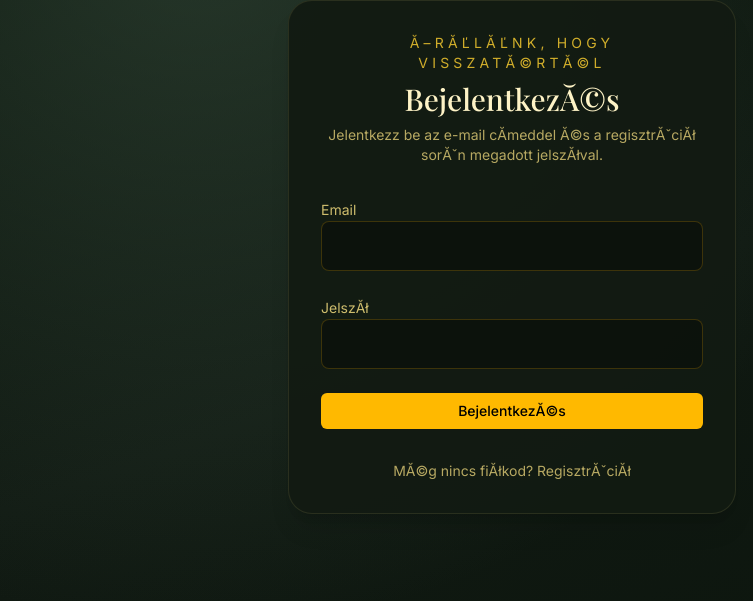
Test: LoginPage Component › displays error message when login fails
In the field with id "email": (512,246) [321,221,703,271], type "test@example.com"
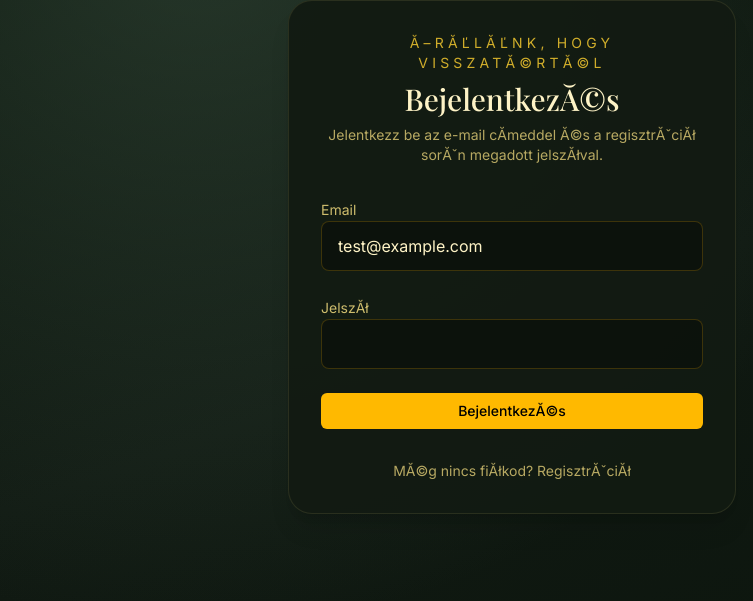
In the password field labelled "JelszĂł": (512,344) [321,319,703,369], type "wrong"
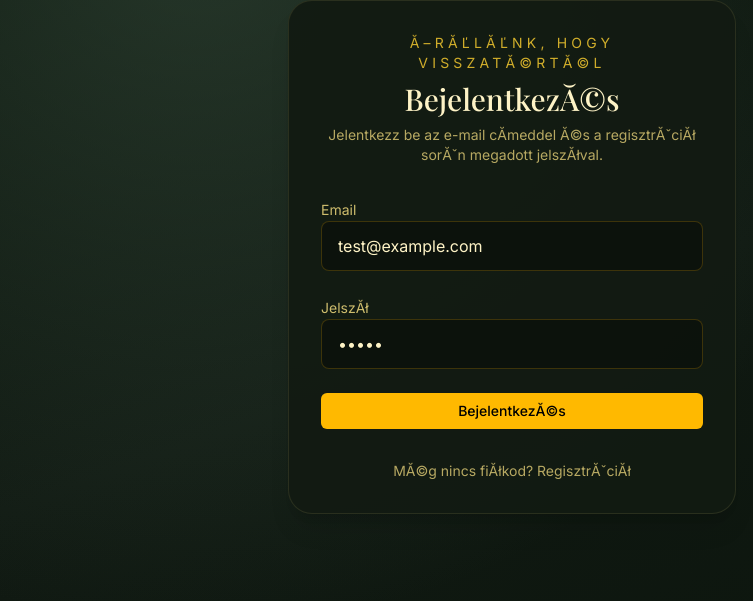
Click the submit button: (512,411) [321,393,703,429]
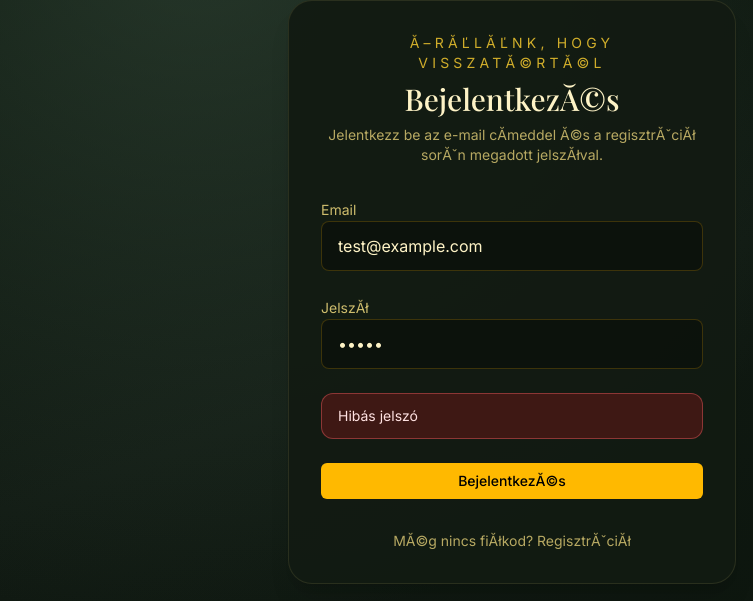
expect the text "Hibás jelszó" is shown: met, box [321,393,703,439]
